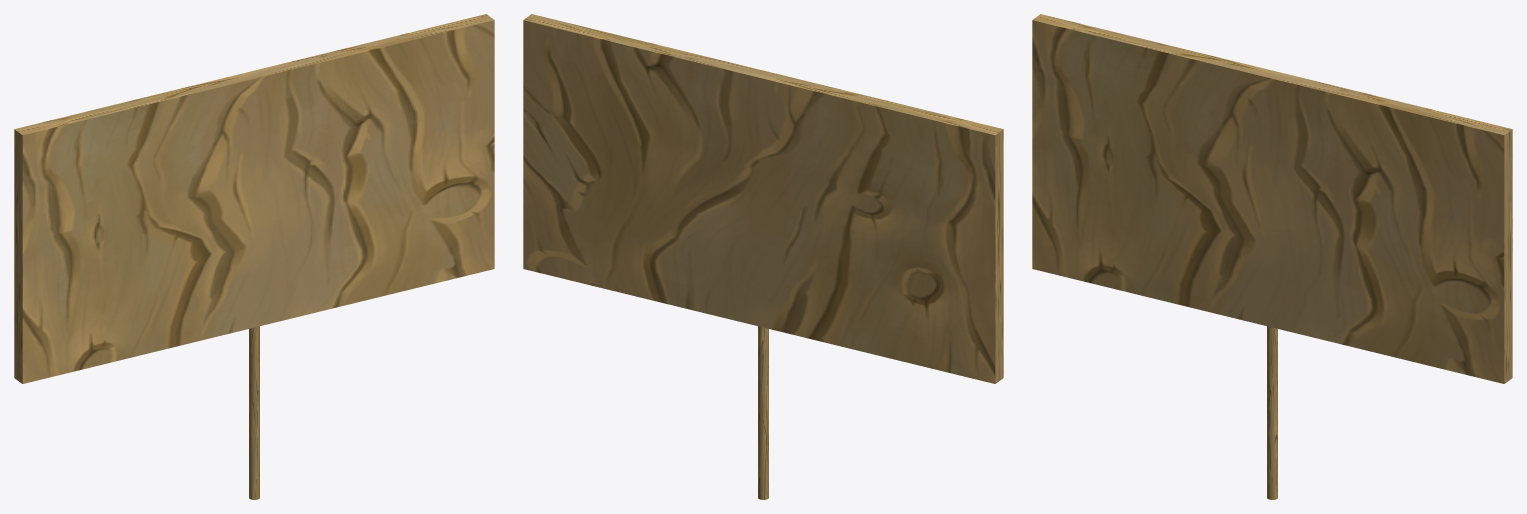
The model's file is sign.fbx.
3 views of the same model, side by side, from view 1: azimuth 30°, elevation 25°; view 2: azimuth 150°, elevation 25°; view 3: azimuth 330°, elevation 25° (orthographic).
Parts seen in each view (by area): view 1: pCube1, pCylinder1; view 2: pCube1, pCylinder1; view 3: pCube1, pCylinder1.
Part boxes in pixels (x1,y1,x2,y2): pCube1: [14, 14, 494, 383]; pCylinder1: [249, 326, 259, 499]; pCube1: [523, 14, 1003, 383]; pCylinder1: [758, 326, 768, 499]; pCube1: [1032, 14, 1512, 383]; pCylinder1: [1267, 326, 1277, 499].
Size of the model in its own units: 9.93 by 8.5 by 0.3064.
1 material, 1 textured.
